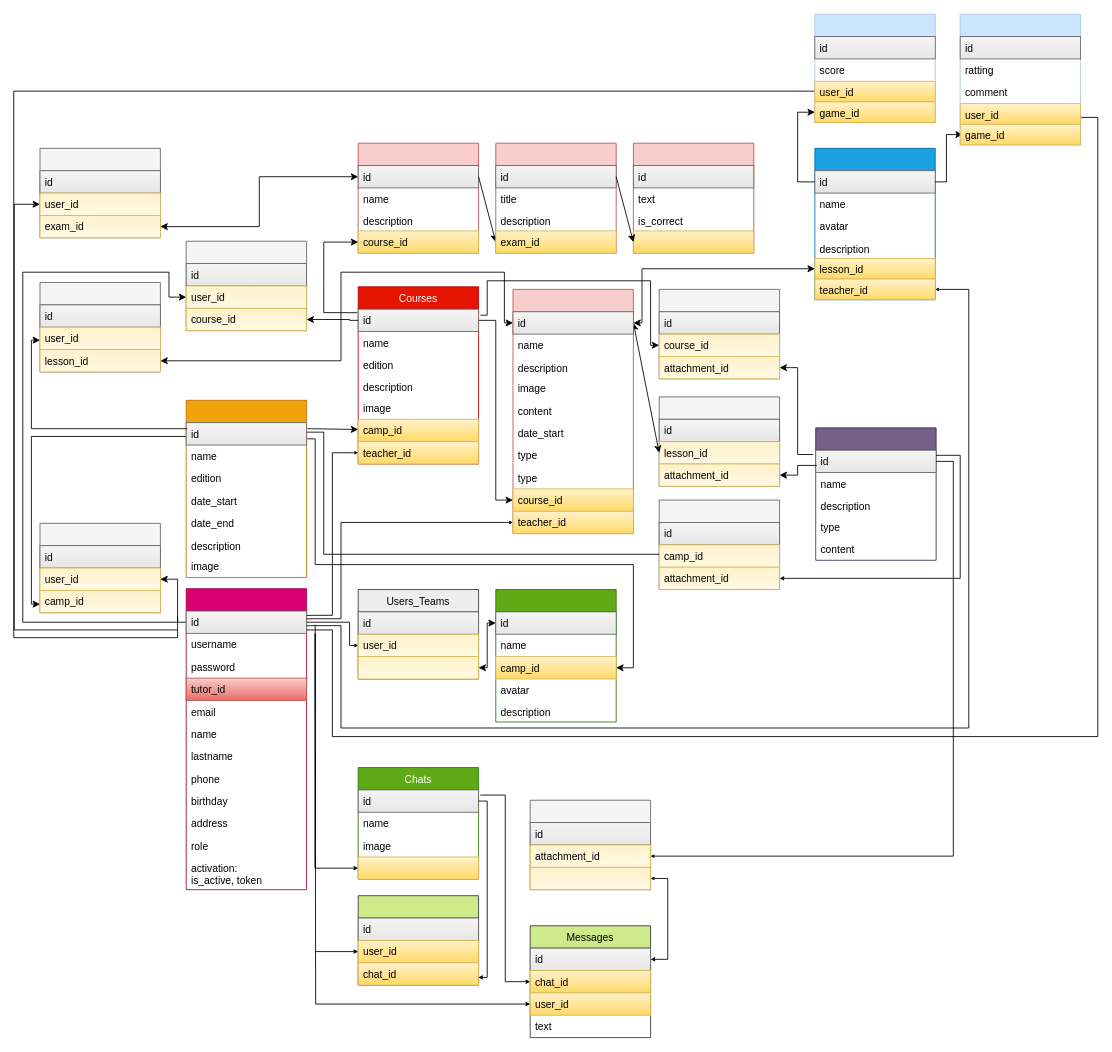
This 1112x1052 diagram has some shape labels left out. Here are the shapes that lost their labels. From the top down, the box of each, then its label:
(814, 13, 935, 123): Scores
(959, 13, 1081, 145): Feedback
(39, 147, 160, 238): Aproved_Exams
(357, 142, 479, 253): Exams
(495, 142, 616, 253): Questions
(633, 142, 754, 253): Answers
(633, 230, 754, 253): question_id
(814, 147, 935, 300): Games
(185, 240, 307, 331): Completed_Course
(39, 282, 160, 372): Completed_Lessons
(658, 289, 780, 379): Courses_Attachments
(512, 289, 633, 534): Lessons
(658, 396, 780, 486): Lessons_Attachments
(185, 399, 307, 577): Camps
(815, 427, 936, 560): Attachments
(658, 499, 780, 590): Camps_Attachments
(39, 522, 160, 613): Users_Camps
(357, 656, 479, 679): team_id
(495, 589, 616, 722): Teams
(185, 588, 307, 890): Users
(529, 799, 651, 890): Message_Attachments
(357, 856, 479, 879): owner_id
(529, 866, 651, 890): message_id
(357, 895, 479, 985): Participants
